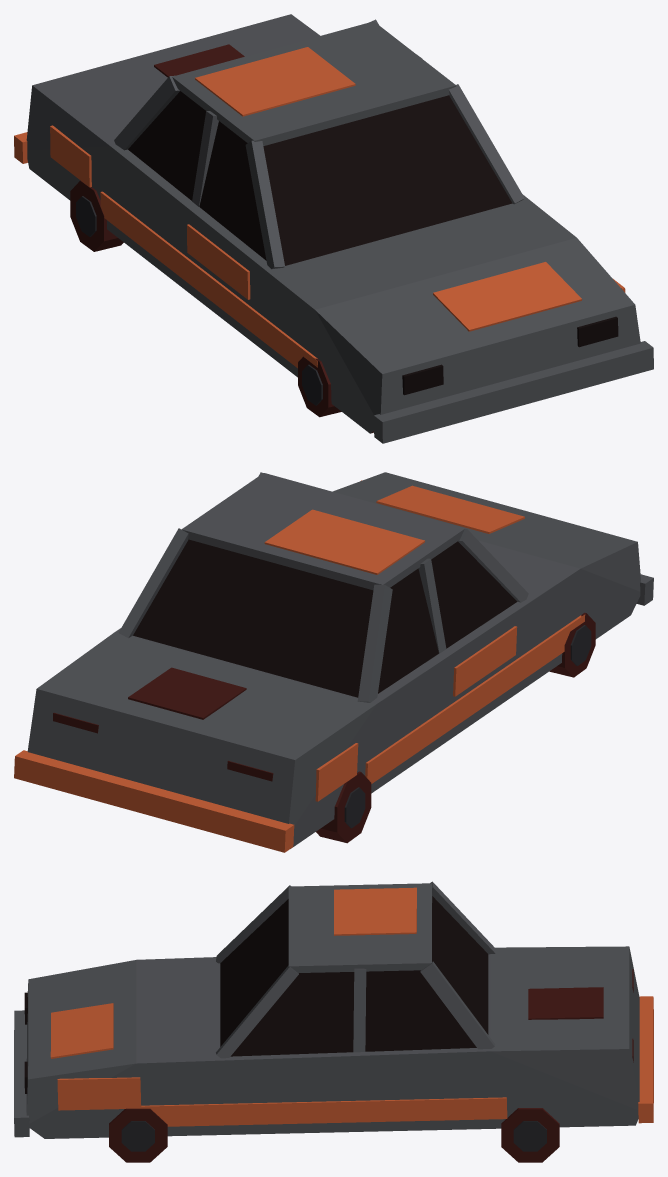
File: car_wreck.glb
3 renders of one model, top to bottom at view 1: azimuth 30°, elevation 25°; view 2: azimuth 150°, elevation 25°; view 3: azimuth 270°, elevation 25°, orthographic. The views are drawn at different scales.
Visible parts, largest first — view 1: car_wreck; view 2: car_wreck; view 3: car_wreck.
Part boxes in pixels (<box>): car_wreck: <box>14,14,653,443</box>; car_wreck: <box>14,472,653,852</box>; car_wreck: <box>14,881,653,1162</box>.
Size of the model in its own units: 1.8 by 1.35 by 4.24.
